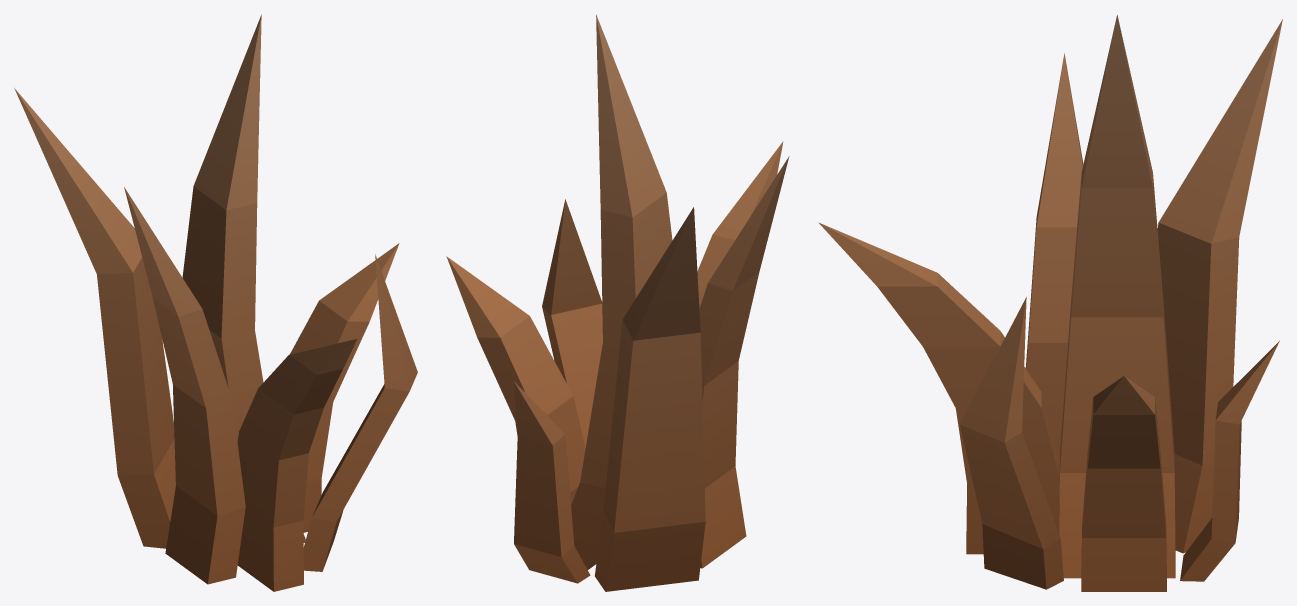
File: grass brown 2.fbx
3 views of the same model, side by side, from view 1: azimuth 30°, elevation 25°; view 2: azimuth 150°, elevation 25°; view 3: azimuth 270°, elevation 25° (orthographic). The views are drawn at different scales.
Visible parts, largest first — view 1: grass brown 2; view 2: grass brown 2; view 3: grass brown 2.
Boxes of the visible parts, left/top/right/bottom form: grass brown 2: left=14, top=14, right=417, bottom=591; grass brown 2: left=446, top=14, right=789, bottom=591; grass brown 2: left=818, top=15, right=1282, bottom=591.
Bounding box in the file's own units: 65.65 × 103 × 78.27.
